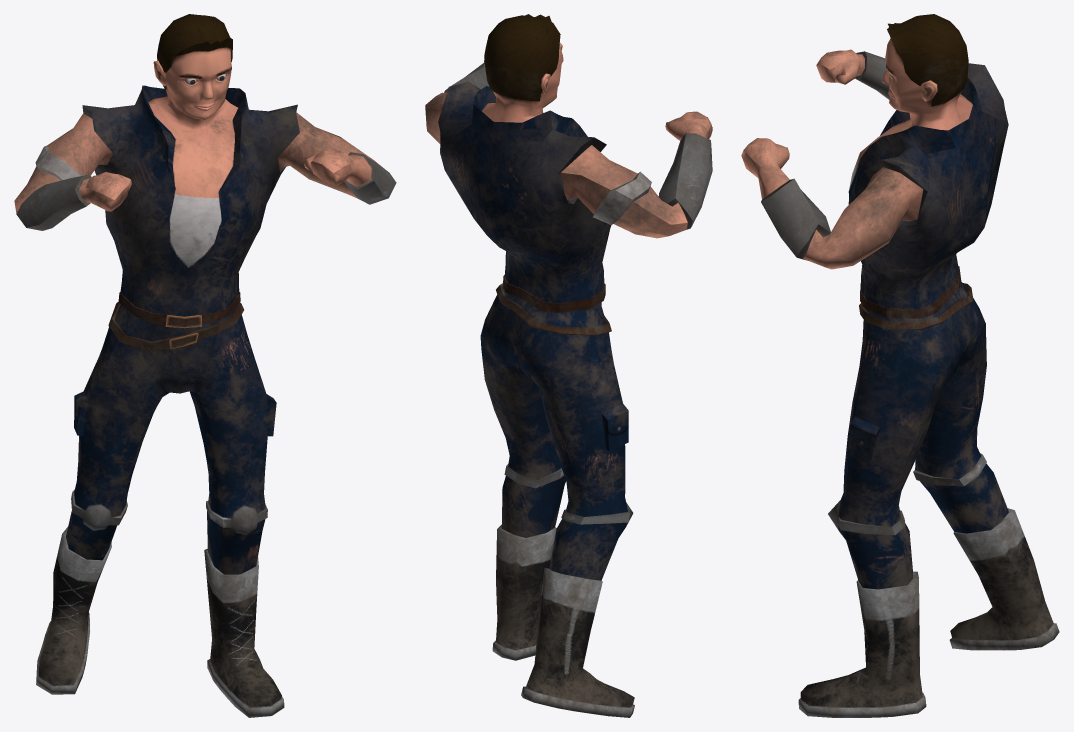
The model's file is Anim_especial_jugador.0011.obj.
3 renders of one model, left to right at view 1: azimuth 30°, elevation 25°; view 2: azimuth 150°, elevation 25°; view 3: azimuth 270°, elevation 25°, orthographic. The views are drawn at different scales.
Visible parts, largest first — view 1: polySurface1; view 2: polySurface1; view 3: polySurface1.
Part boxes in pixels (x1,y1,x2,y2): polySurface1: (14,14,396,717); polySurface1: (425,14,712,717); polySurface1: (741,14,1059,717).
Bounding box in the file's own units: 4.92 × 9.62 × 4.05.
